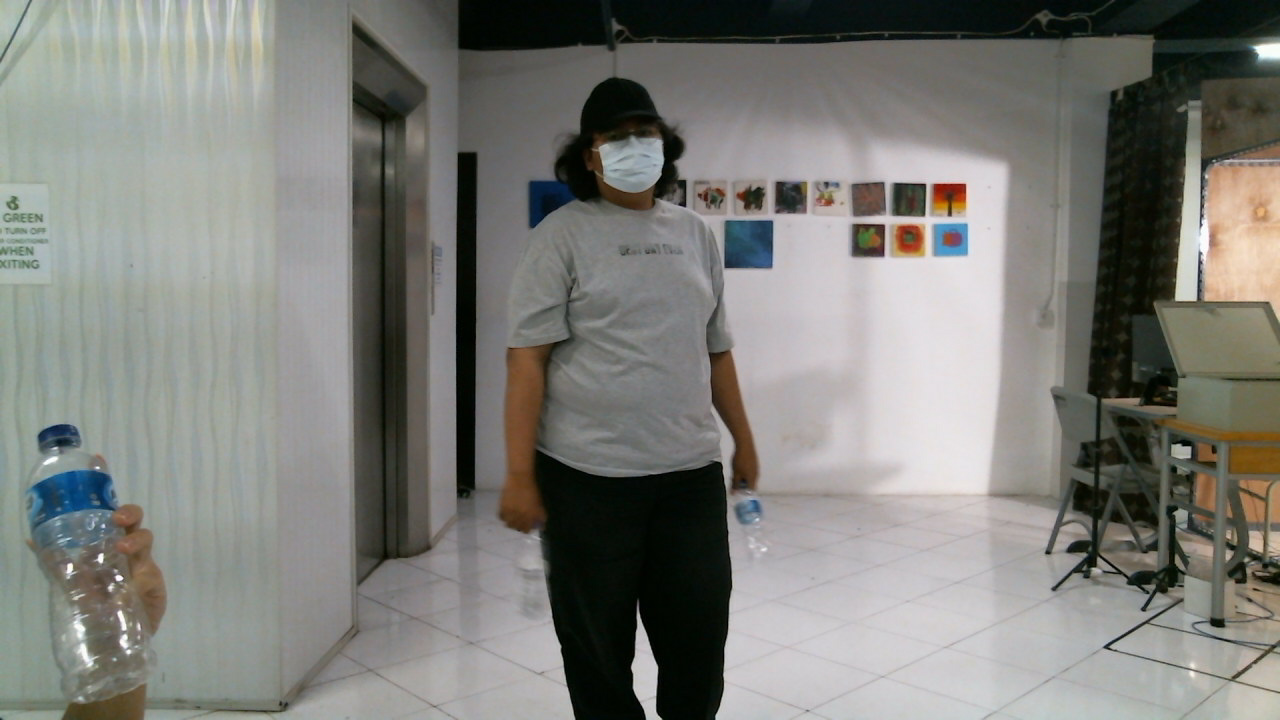Bottle: (24, 421, 158, 704)
